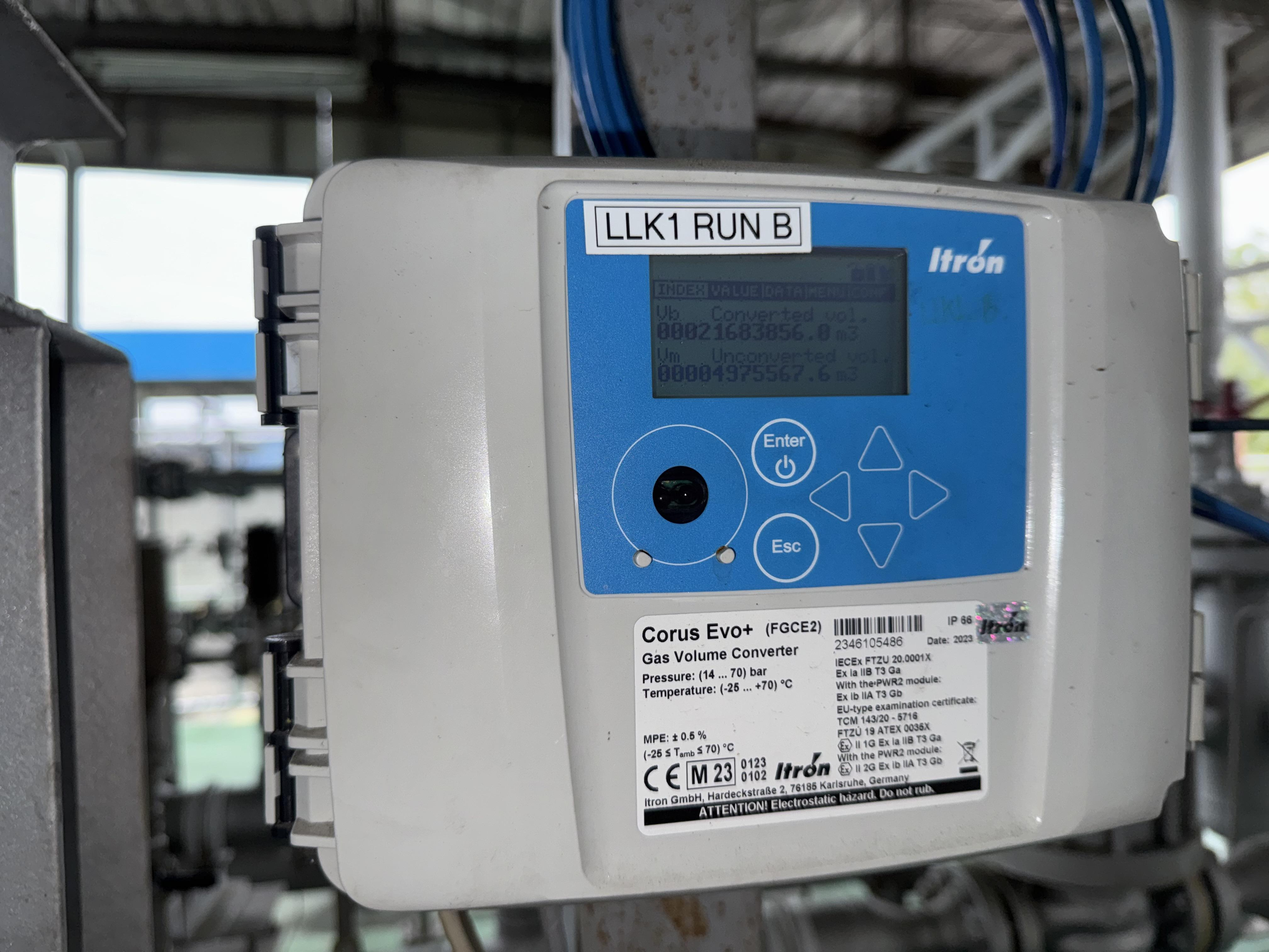digital_screen: (648, 247, 908, 398)
